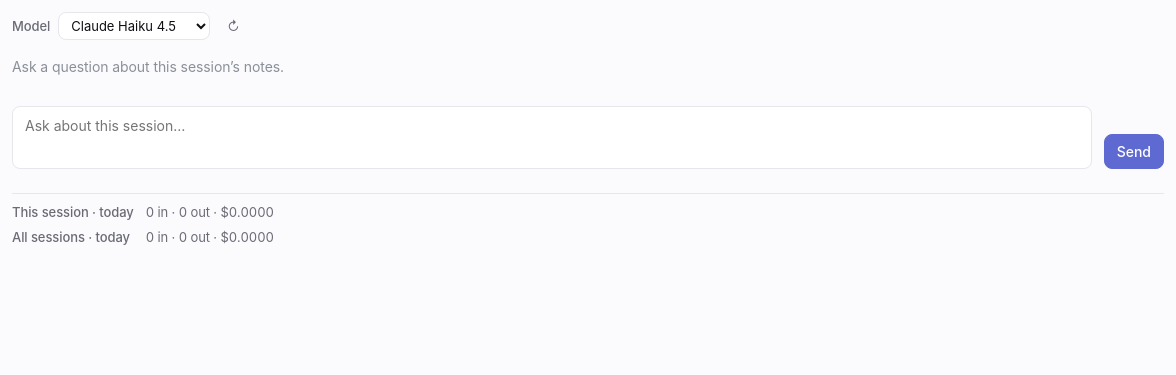
Test: ChatPanel › saves a finalized reply as a Q+A note (with the model) and refreshes the canvas
In the text box named "Ask Claude about this session": (552,138) [12,106,1092,169], type "What did we decide?"
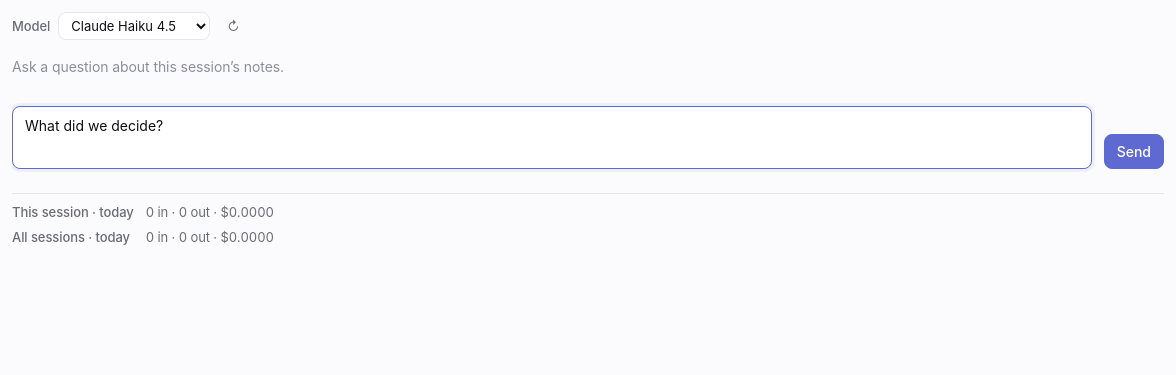
Click the button with aria-label "Send message": (1134,152) [1104,134,1164,169]
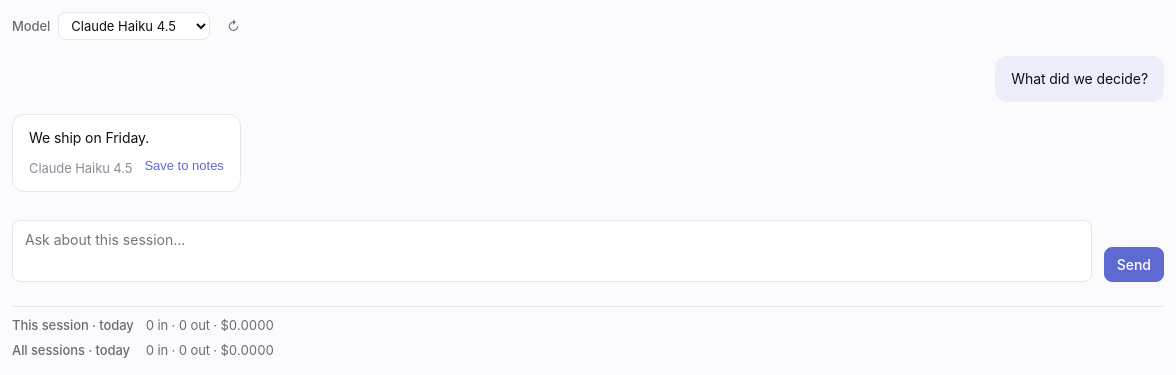
Click the button "Save to notes": (184,165) [144,158,224,173]
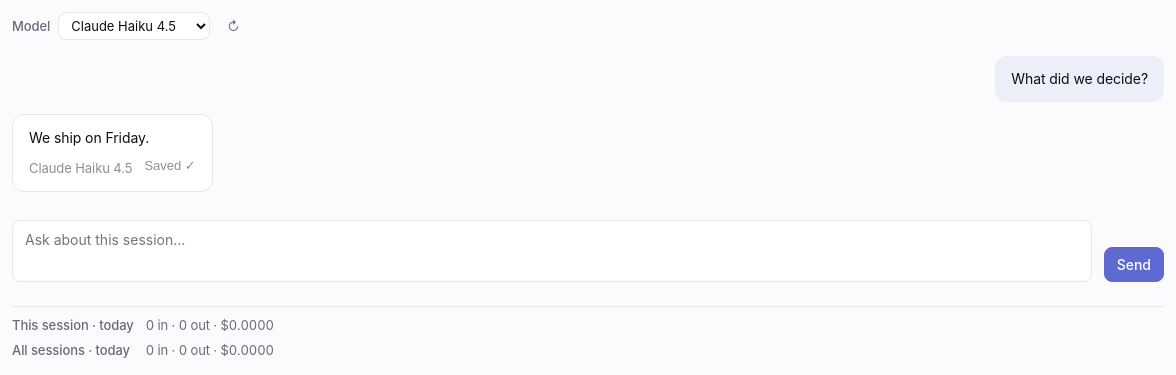
Expected: the button "Saved ✓" is shown, [144,158,196,173]
